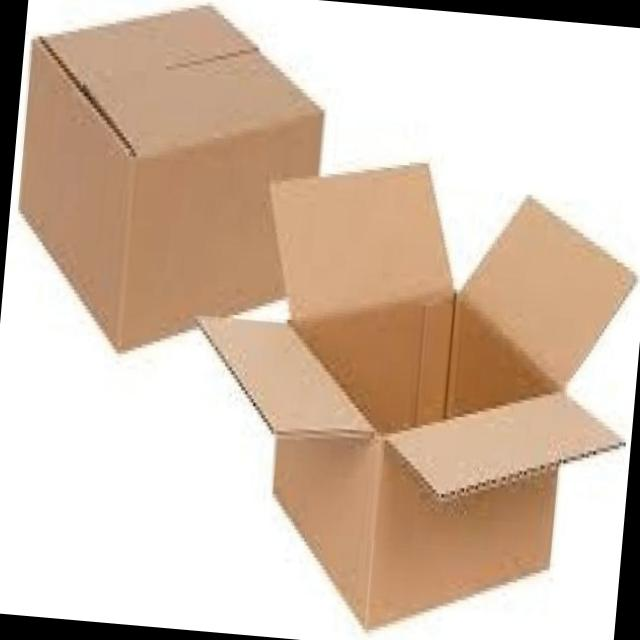cardboard paper: (191, 161, 639, 632), (20, 4, 323, 345)
